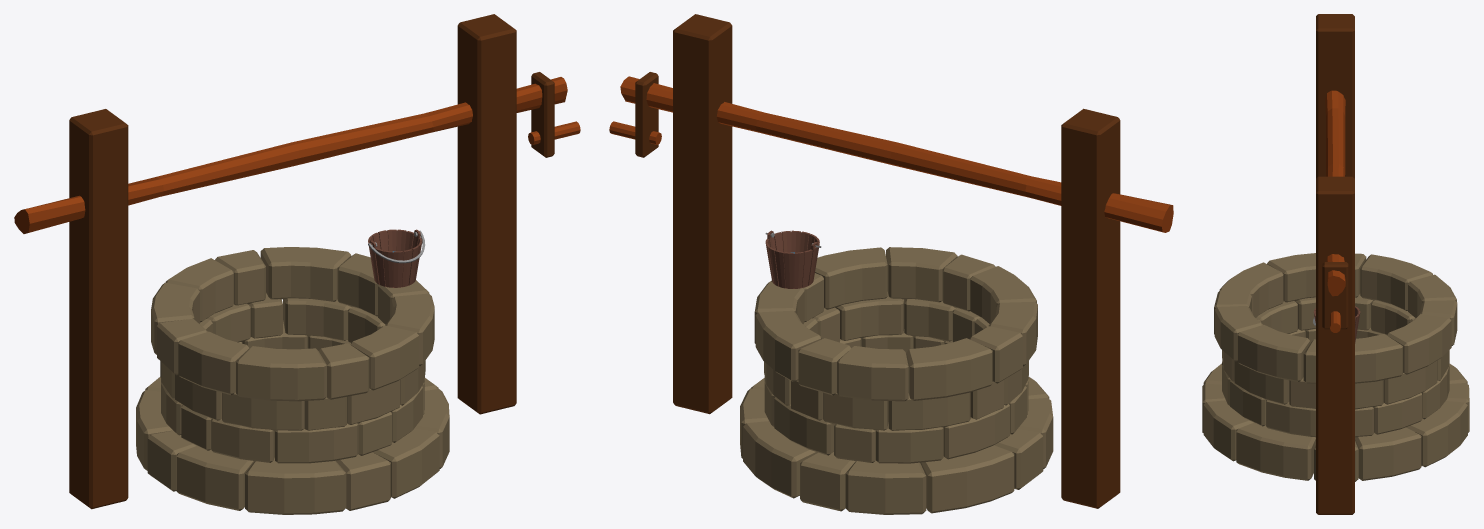
Rendered from Well.fbx.
The picture shows the model from 3 angles, left to right: view 1: azimuth 30°, elevation 25°; view 2: azimuth 150°, elevation 25°; view 3: azimuth 270°, elevation 25°; orthographic projection. The views are drawn at different scales.
Parts seen in each view (by area): view 1: Cube.004, Cube.003, Cube, Cube.002, Cylinder, Cube.001, Circle; view 2: Cube.004, Cube.003, Cube, Cube.002, Cylinder, Cube.001, Circle; view 3: Cube.003, Cube.004, Cube, Cube.002, Cube.001, Cylinder.
Part boxes in pixels (bbox=[...]): Cube.004: bbox=[69, 14, 516, 509]; Cube.003: bbox=[151, 247, 434, 401]; Cube: bbox=[136, 377, 449, 514]; Cube.002: bbox=[160, 293, 425, 430]; Cylinder: bbox=[14, 72, 580, 233]; Cube.001: bbox=[161, 320, 424, 463]; Circle: bbox=[368, 229, 422, 287]; Cube.004: bbox=[673, 14, 1120, 508]; Cube.003: bbox=[754, 247, 1037, 401]; Cube: bbox=[740, 377, 1053, 514]; Cube.002: bbox=[764, 292, 1028, 430]; Cylinder: bbox=[609, 72, 1173, 232]; Cube.001: bbox=[764, 329, 1028, 463]; Circle: bbox=[765, 230, 819, 288]; Cube.003: bbox=[1214, 253, 1457, 383]; Cube.004: bbox=[1316, 14, 1354, 514]; Cube: bbox=[1202, 363, 1469, 481]; Cube.002: bbox=[1222, 294, 1449, 409]; Cube.001: bbox=[1222, 328, 1449, 437]; Cylinder: bbox=[1322, 90, 1348, 332].
Bounding box in the file's own units: 2825 × 1834 × 1369.
